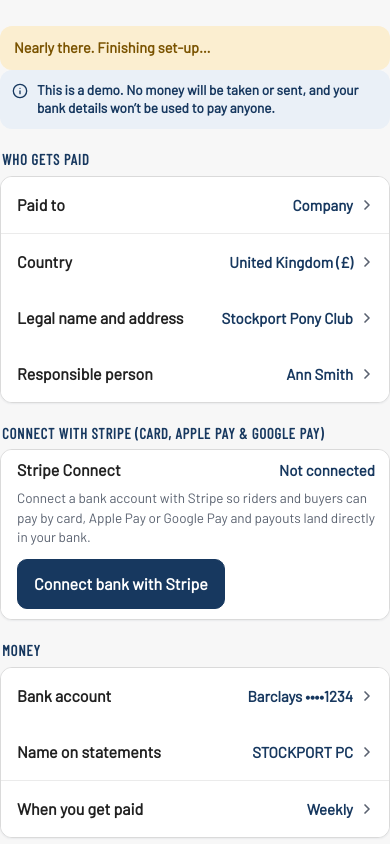
Test: PayoutsPage: legal name and address › only asks for a company number when the payee is a company
Click the button "Legal name and address Stockport Pony Club". click: [100, 317]
box: 1,290 -> 389,346
(page scrolled)
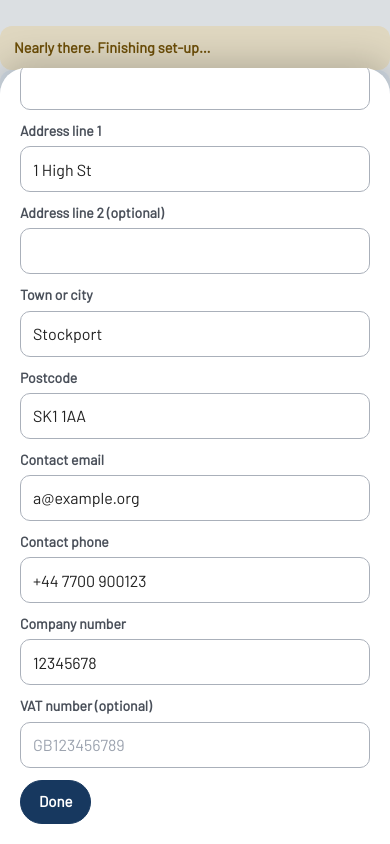
Expected: the field labelled "Company number" holds "12345678", 20,639 -> 370,685
